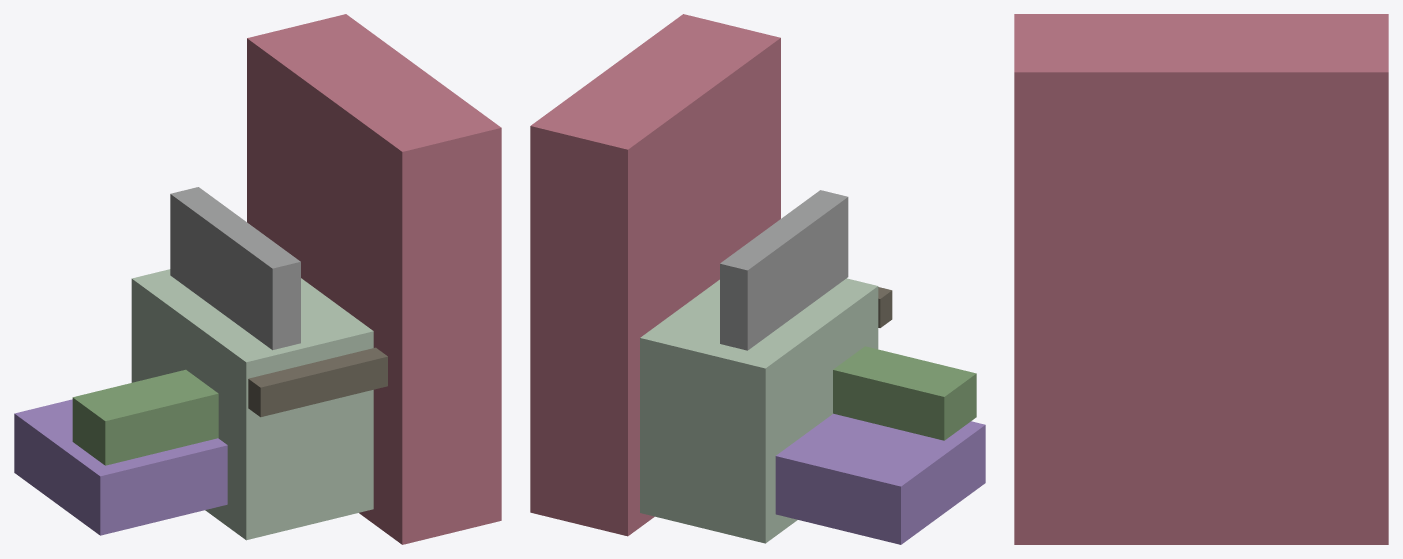
The picture shows the model from 3 angles, left to right: view 1: azimuth 30°, elevation 25°; view 2: azimuth 150°, elevation 25°; view 3: azimuth 270°, elevation 25°; orthographic projection. The views are drawn at different scales.
Parts seen in each view (by area): view 1: world; view 2: world; view 3: world.
Part boxes in pixels (x1,y1,x2,y2): world: (14, 14, 501, 544); world: (530, 14, 985, 544); world: (1014, 14, 1388, 544).
Bounding box in the file's own units: 5 × 5.3 × 3.8.
